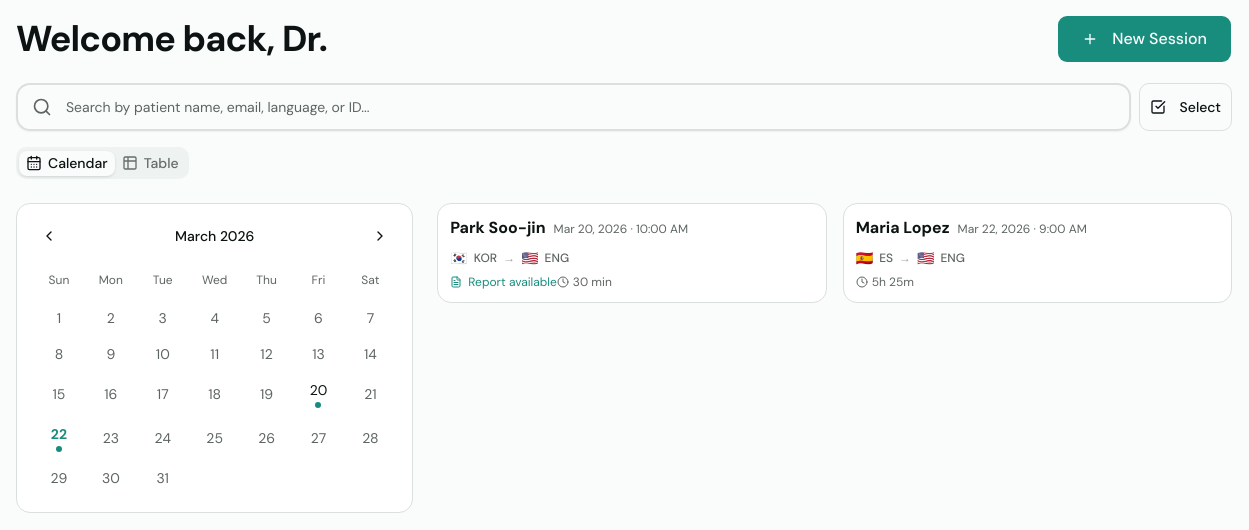
Test: DashboardPage — quick stats and visit grid › filters visits by patient name when search input is used
This screenshot has width=1249, height=530.
Expected: the text "Park Soo-jin" is shown, [450,216,546,240]
Type "Park" into the field with placeholder "Search by patient name, email, language, or ID..." at (573, 107), box [16,83,1131,131]
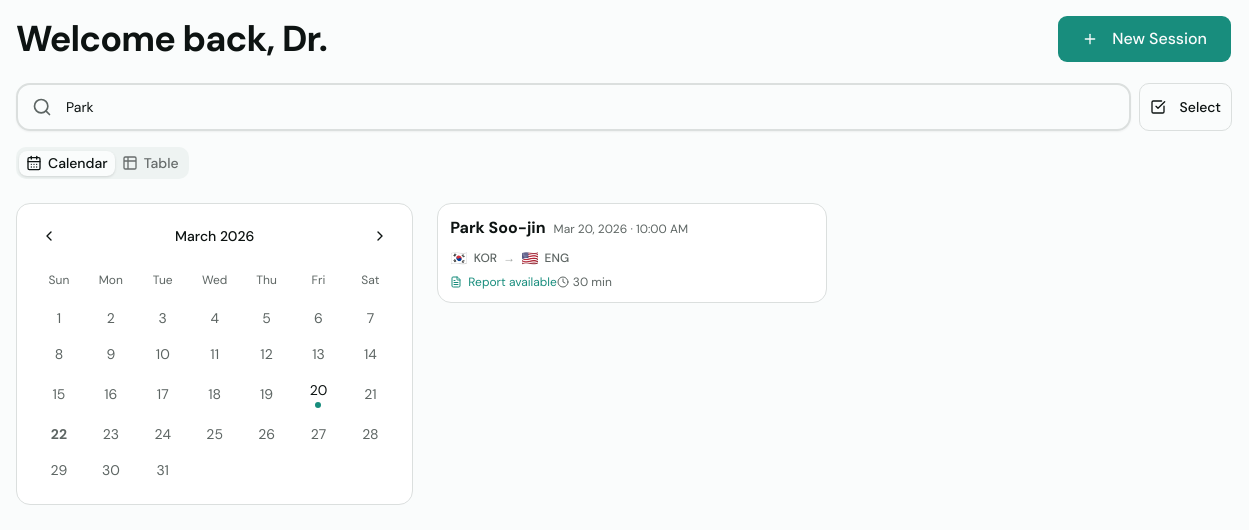
Expected: the text "Park Soo-jin" is shown, [450,216,546,240]
Expected: the button "Maria Lopez" is gone
